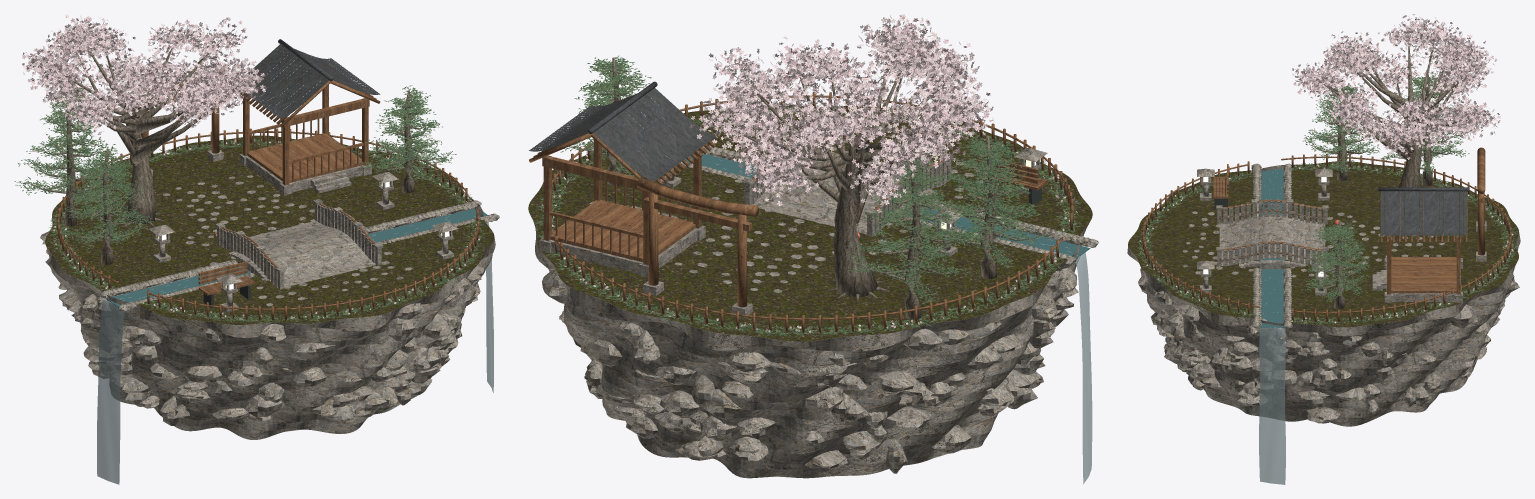
Rendered from sakura.glb.
The picture shows the model from 3 angles, left to right: view 1: azimuth 30°, elevation 25°; view 2: azimuth 150°, elevation 25°; view 3: azimuth 270°, elevation 25°; orthographic projection. The views are drawn at different scales.
Visible parts, largest first — view 1: sakura_Weathered_mineral_stone, sakura_Natural_moss_and_soil, sakura_Aged_oiled_timber, sakura_Cherry_petal_1, sakura_Natural_fissured_bark, sakura_Cherry_petal_0, sakura_Foliage_2, sakura_Foliage_0, sakura_Foliage_1, sakura_Weathered_slate, sakura_waterfall_Flowing_silver_water_-1, sakura_Cherry_petal_2 (+2 smaller); view 2: sakura_Weathered_mineral_stone, sakura_Natural_moss_and_soil, sakura_Cherry_petal_1, sakura_Aged_oiled_timber, sakura_Cherry_petal_0, sakura_Natural_fissured_bark, sakura_Foliage_2, sakura_Foliage_0, sakura_Foliage_1, sakura_Weathered_slate, sakura_Cherry_petal_2, sakura_waterfall_Flowing_silver_water_-1 (+1 smaller); view 3: sakura_Weathered_mineral_stone, sakura_Natural_moss_and_soil, sakura_Cherry_petal_1, sakura_Cherry_petal_0, sakura_Aged_oiled_timber, sakura_Natural_fissured_bark, sakura_Weathered_slate, sakura_waterfall_Flowing_silver_water_1, sakura_Foliage_2, sakura_Foliage_0, sakura_Foliage_1, sakura_Cherry_petal_2 (+1 smaller).
Boxes of the visible parts, box(x1,y1,x2,y2) form: sakura_Weathered_mineral_stone: box(40, 150, 499, 439); sakura_Natural_moss_and_soil: box(45, 135, 494, 324); sakura_Aged_oiled_timber: box(57, 46, 479, 320); sakura_Cherry_petal_1: box(22, 14, 480, 320); sakura_Natural_fissured_bark: box(22, 35, 447, 264); sakura_Cherry_petal_0: box(22, 15, 481, 320); sakura_Foliage_2: box(14, 85, 487, 323); sakura_Foliage_0: box(19, 87, 486, 322); sakura_Foliage_1: box(15, 86, 486, 322); sakura_Weathered_slate: box(245, 39, 380, 118); sakura_waterfall_Flowing_silver_water_-1: box(97, 299, 124, 484); sakura_Cherry_petal_2: box(23, 16, 479, 319); sakura_Weathered_mineral_stone: box(531, 84, 1098, 478); sakura_Natural_moss_and_soil: box(528, 104, 1092, 341); sakura_Cherry_petal_1: box(539, 14, 1077, 333); sakura_Aged_oiled_timber: box(529, 90, 1073, 333); sakura_Cherry_petal_0: box(540, 14, 1077, 332); sakura_Natural_fissured_bark: box(569, 33, 1043, 319); sakura_Foliage_2: box(533, 55, 1080, 336); sakura_Foliage_0: box(535, 57, 1083, 335); sakura_Foliage_1: box(534, 57, 1079, 336); sakura_Weathered_slate: box(529, 81, 715, 181); sakura_Cherry_petal_2: box(552, 15, 1074, 331); sakura_waterfall_Flowing_silver_water_-1: box(1075, 252, 1092, 484); sakura_Weathered_mineral_stone: box(1127, 163, 1520, 426); sakura_Natural_moss_and_soil: box(1128, 161, 1518, 327); sakura_Cherry_petal_1: box(1139, 15, 1513, 323); sakura_Cherry_petal_0: box(1139, 14, 1513, 322); sakura_Aged_oiled_timber: box(1142, 147, 1511, 321); sakura_Natural_fissured_bark: box(1307, 28, 1485, 309); sakura_Weathered_slate: box(1378, 187, 1469, 235); sakura_waterfall_Flowing_silver_water_1: box(1259, 327, 1285, 484); sakura_Foliage_2: box(1136, 73, 1518, 324); sakura_Foliage_0: box(1138, 73, 1516, 325); sakura_Foliage_1: box(1138, 75, 1519, 324); sakura_Cherry_petal_2: box(1146, 14, 1513, 320).
Size of the model in its own units: 13.07 by 11.59 by 12.98.
Materials: 20 (5 with a texture image).
